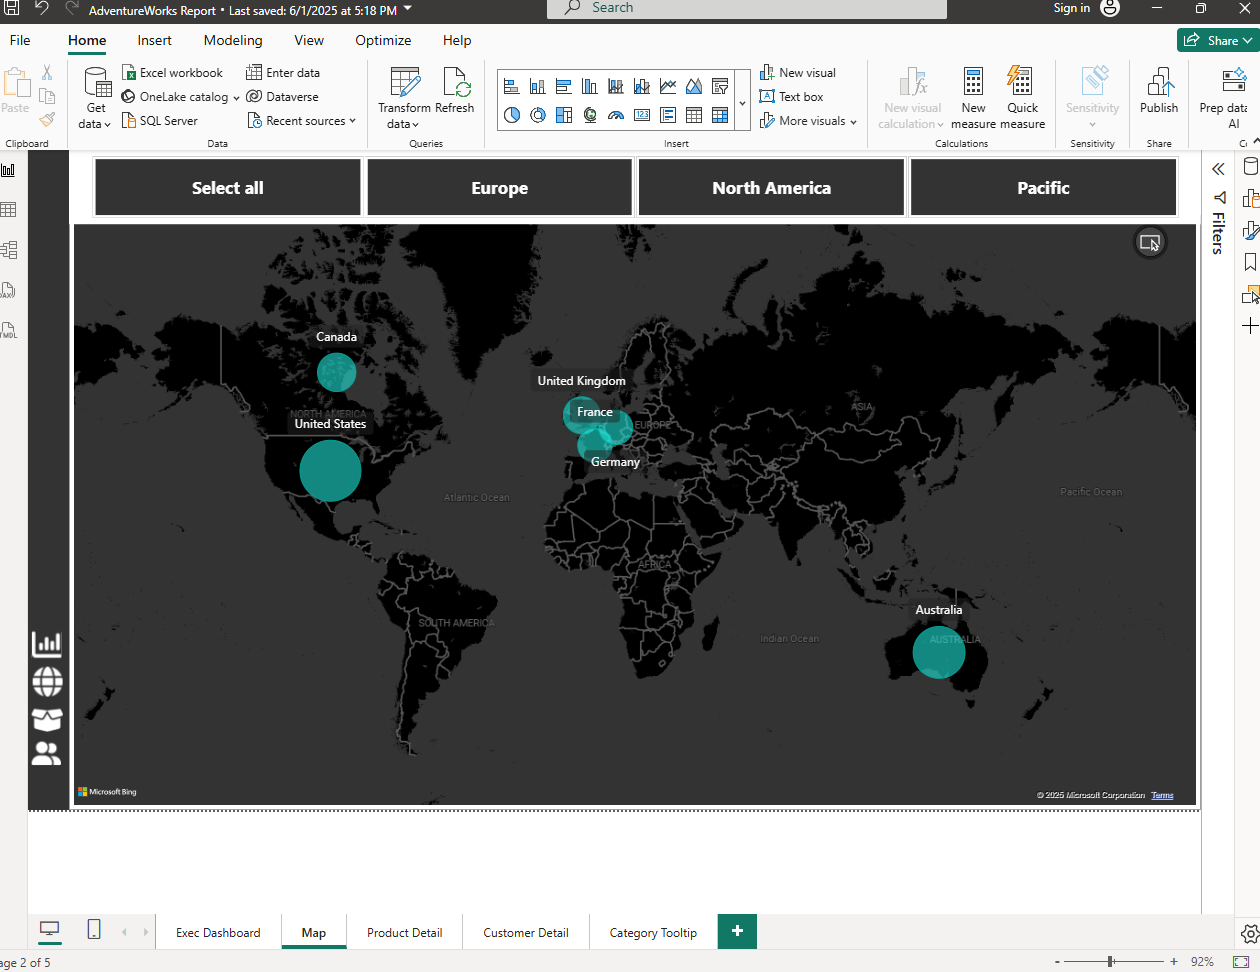

What the dashboard file says about the page in this screenshot:
{"tool":"powerbi","page":{"name":"Map","canvas":[1280,720],"ordinal":1},"visuals":[{"type":"shape","box":[0,0,45,720.5],"z":0},{"type":"map","fields":{"Category":["Territory Lookup.Country"],"Size":["Measure Table.Total Orders"]},"box":[45.2,71,1234.8,649],"z":1000},{"type":"actionButton","box":[0.2,519,44.7,40.7],"z":1000,"group":"g1"},{"type":"slicer","fields":{"Values":["Territory Lookup.Continent"]},"box":[45.2,0,1234.8,81.3],"z":2000},{"type":"actionButton","box":[1.4,559.7,46.1,40.7],"z":2000,"group":"g1"},{"type":"group","id":"g1","title":"Navigation buttons","box":[0,519,47.5,158.7],"z":3000},{"type":"actionButton","box":[0.2,600.4,44.7,42],"z":3000,"group":"g1"},{"type":"actionButton","box":[0,637.5,43.6,40.3],"z":4000,"group":"g1"}]}

Visuals, with their boxes on the page's 1280x720 design canvas (x1, y1, x2, y2). These are canvas units, not pixel positions in the 1260x972 screenshot, which may show the page scaled, cropped or inside an application window:
shape: x1=0 y1=0 x2=45 y2=720
map - Territory Lookup.Country x Measure Table.Total Orders: x1=45 y1=71 x2=1280 y2=720
actionButton: x1=0 y1=519 x2=45 y2=560
slicer - Territory Lookup.Continent: x1=45 y1=0 x2=1280 y2=81
actionButton: x1=1 y1=560 x2=48 y2=600
"Navigation buttons" group: x1=0 y1=519 x2=48 y2=678
actionButton: x1=0 y1=600 x2=45 y2=642
actionButton: x1=0 y1=638 x2=44 y2=678
